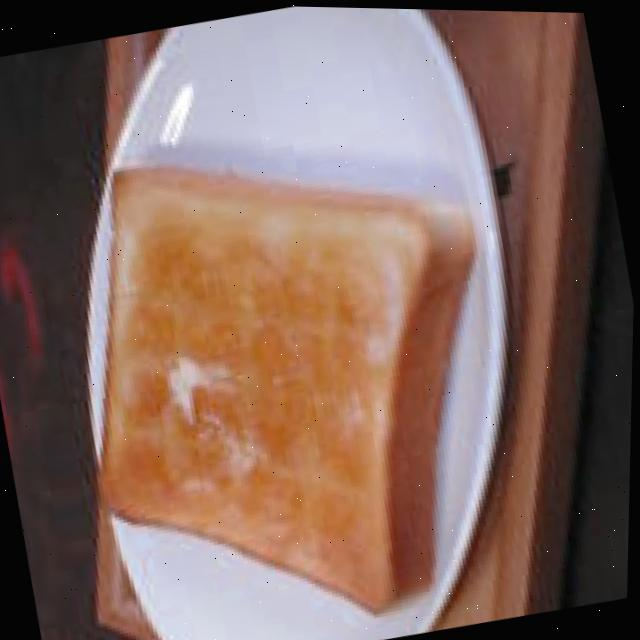面包点心: (6, 102, 546, 640)
